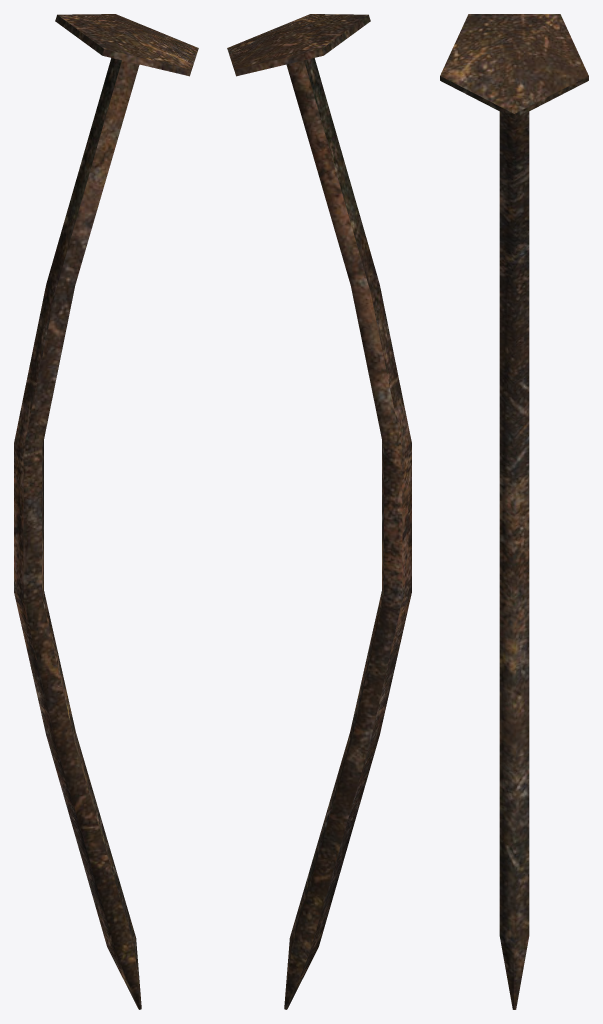
The model's file is Nail2.FBX.
3 renders of one model, left to right at view 1: azimuth 30°, elevation 25°; view 2: azimuth 150°, elevation 25°; view 3: azimuth 270°, elevation 25°, orthographic. The views are drawn at different scales.
Parts seen in each view (by area): view 1: Nail2; view 2: Nail2; view 3: Nail2.
Boxes of the visible parts, x1,y1,x2,y2 form: Nail2: (14, 14, 198, 1009); Nail2: (227, 14, 411, 1009); Nail2: (440, 14, 588, 1009).
Bounding box in the file's own units: 7.65 × 40.29 × 5.62.
